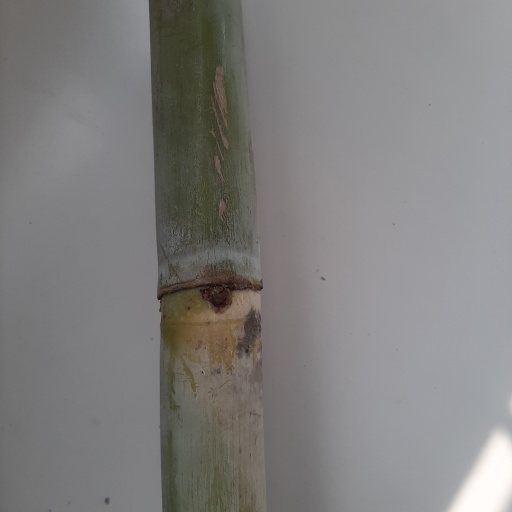Bud: (206, 287, 229, 311)
